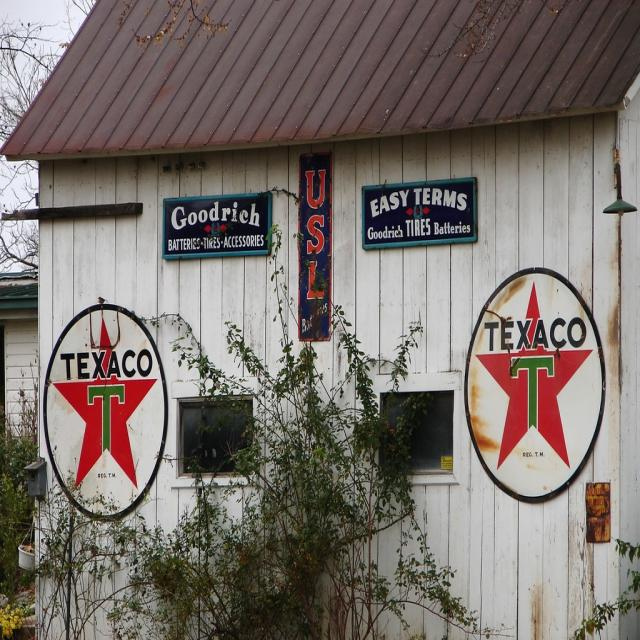texaco: (467, 270, 605, 498), (47, 309, 165, 517)
